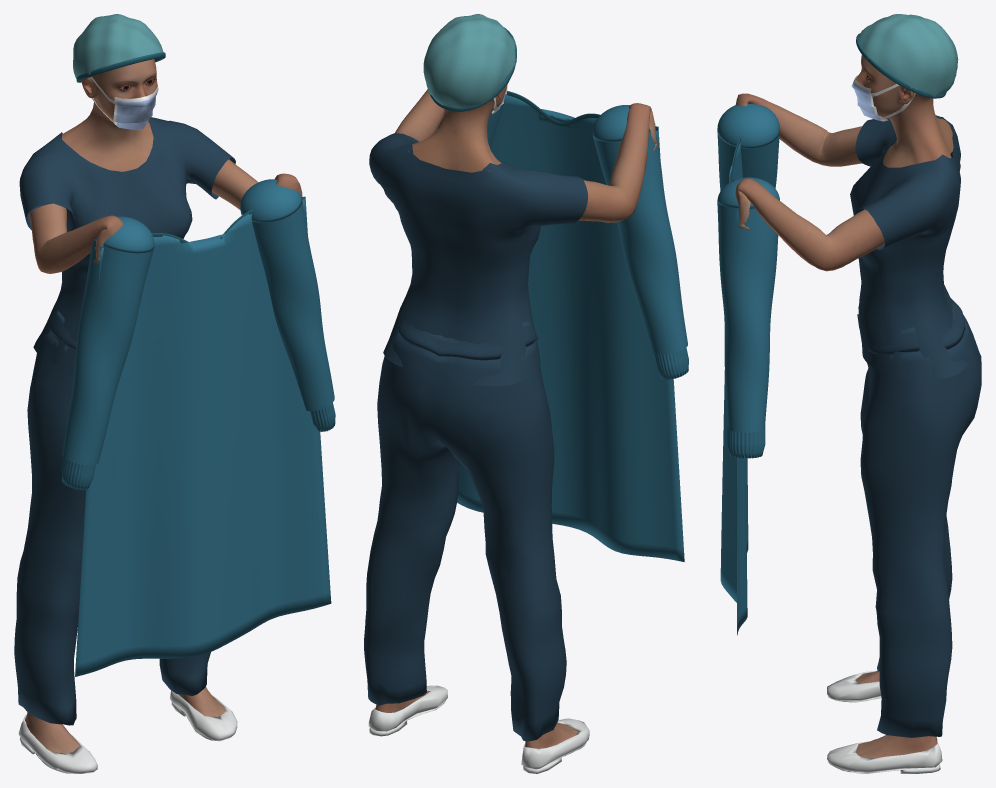
File: paso-3.glb
3 views of the same model, side by side, from view 1: azimuth 30°, elevation 25°; view 2: azimuth 150°, elevation 25°; view 3: azimuth 270°, elevation 25° (orthographic).
Parts seen in each view (by area): view 1: v2-gown-unfolded, Human.toigo_wool_pants-static, Human.joepal_crude_t-shirt_female-static, Human-static, v2-hanging-sleeve-R, v2-hanging-sleeve-L, surgical-cap, Human.toigo_flats-static, v2-draped-shoulder-L, Human.joepal_medical_mouth_protection-static, v2-draped-shoulder-R, v2-cuff-R (+1 smaller); view 2: Human.toigo_wool_pants-static, v2-gown-unfolded, Human.joepal_crude_t-shirt_female-static, Human-static, v2-hanging-sleeve-R, surgical-cap, Human.toigo_flats-static, v2-draped-shoulder-R, v2-cuff-R; view 3: Human.toigo_wool_pants-static, Human.joepal_crude_t-shirt_female-static, Human-static, v2-hanging-sleeve-L, surgical-cap, v2-gown-unfolded, Human.toigo_flats-static, v2-draped-shoulder-R, v2-hanging-sleeve-R, v2-cuff-L, Human.joepal_medical_mouth_protection-static, v2-draped-shoulder-L (+1 smaller).
Part boxes in pixels (x1,y1,x2,y2): v2-gown-unfolded: [75, 199, 331, 676]; Human.toigo_wool_pants-static: [14, 310, 210, 725]; Human.joepal_crude_t-shirt_female-static: [19, 117, 235, 367]; Human-static: [25, 59, 302, 753]; v2-hanging-sleeve-R: [62, 240, 153, 465]; v2-hanging-sleeve-L: [241, 201, 334, 410]; surgical-cap: [73, 14, 163, 78]; Human.toigo_flats-static: [18, 690, 237, 773]; v2-draped-shoulder-L: [240, 179, 302, 222]; Human.joepal_medical_mouth_protection-static: [90, 77, 158, 130]; v2-draped-shoulder-R: [94, 216, 154, 253]; v2-cuff-R: [61, 458, 95, 490]; Human.toigo_wool_pants-static: [364, 320, 566, 741]; v2-gown-unfolded: [457, 94, 684, 561]; Human.joepal_crude_t-shirt_female-static: [369, 133, 587, 386]; Human-static: [375, 83, 657, 748]; v2-hanging-sleeve-R: [593, 131, 687, 354]; surgical-cap: [423, 14, 515, 108]; Human.toigo_flats-static: [368, 685, 589, 773]; v2-draped-shoulder-R: [592, 105, 650, 141]; v2-cuff-R: [654, 347, 688, 379]; Human.toigo_wool_pants-static: [857, 298, 981, 737]; Human.joepal_crude_t-shirt_female-static: [850, 115, 968, 379]; Human-static: [735, 55, 953, 758]; v2-hanging-sleeve-L: [717, 202, 778, 432]; surgical-cap: [858, 14, 958, 96]; v2-gown-unfolded: [720, 142, 748, 635]; Human.toigo_flats-static: [827, 671, 942, 773]; v2-draped-shoulder-R: [717, 103, 780, 148]; v2-hanging-sleeve-R: [717, 131, 779, 190]; v2-cuff-L: [727, 425, 765, 458]; Human.joepal_medical_mouth_protection-static: [851, 75, 915, 121]; v2-draped-shoulder-L: [717, 177, 779, 208].
Bounding box in the file's own units: 0.6695 × 1.7 × 0.5717.
Materials: 18 (9 with a texture image).
